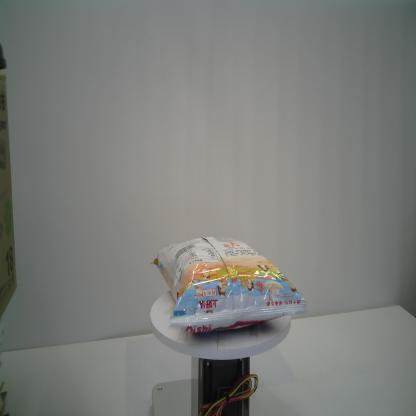Puffed Food: (152, 236, 309, 333)
